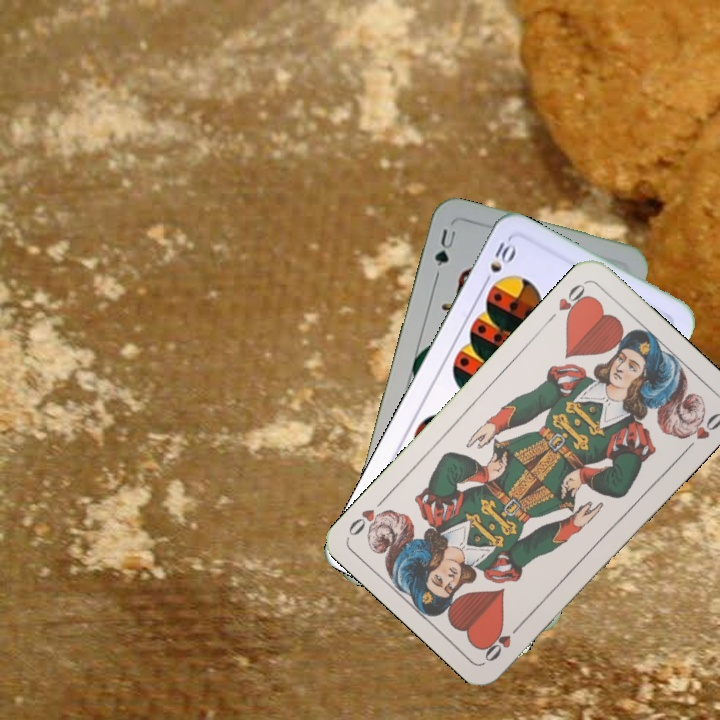GU: (430, 225, 459, 270)
HO: (542, 278, 592, 325), (480, 617, 527, 665)
S10: (479, 235, 519, 289)
